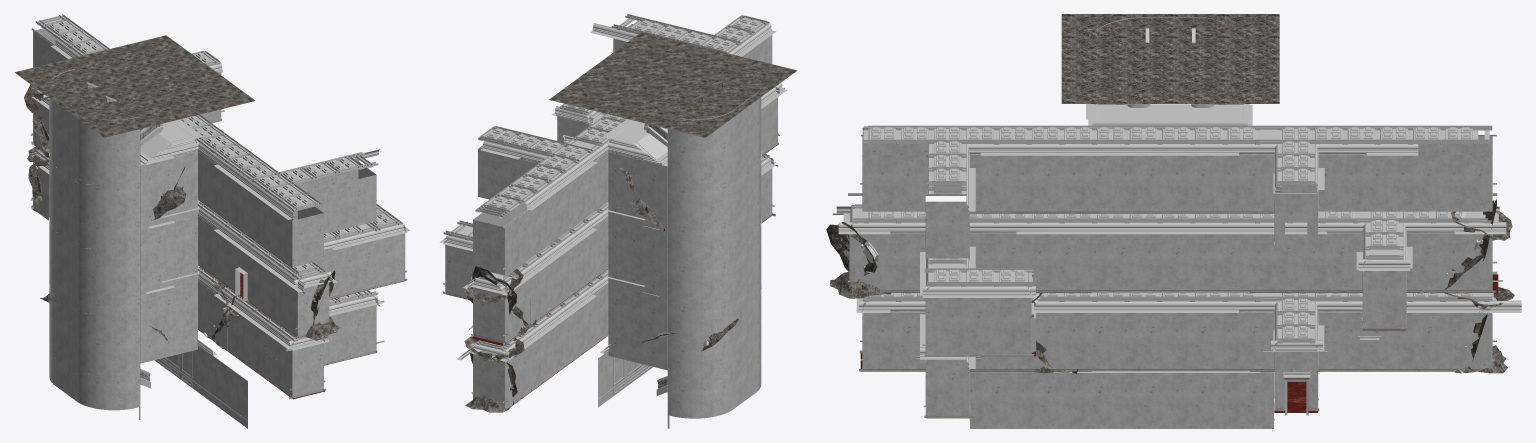
Rendered from backup.fbx.
3 views of the same model, side by side, from view 1: azimuth 30°, elevation 25°; view 2: azimuth 150°, elevation 25°; view 3: azimuth 270°, elevation 25° (orthographic). The views are drawn at different scales.
Visible parts, largest first — view 1: LODGroup_1_MainMesh_1_SubMesh_15, LODGroup_1_MainMesh_1_SubMesh_19, LODGroup_1_MainMesh_1_SubMesh_1, LODGroup_1_MainMesh_1_SubMesh_5, LODGroup_1_MainMesh_1_SubMesh_3, LODGroup_1_MainMesh_1_SubMesh_4, LODGroup_1_MainMesh_1_SubMesh_8, LODGroup_1_MainMesh_1_SubMesh_18; view 2: LODGroup_1_MainMesh_1_SubMesh_15, LODGroup_1_MainMesh_1_SubMesh_19, LODGroup_1_MainMesh_1_SubMesh_1, LODGroup_1_MainMesh_1_SubMesh_5, LODGroup_1_MainMesh_1_SubMesh_3, LODGroup_1_MainMesh_1_SubMesh_4, LODGroup_1_MainMesh_1_SubMesh_8; view 3: LODGroup_1_MainMesh_1_SubMesh_15, LODGroup_1_MainMesh_1_SubMesh_1, LODGroup_1_MainMesh_1_SubMesh_5, LODGroup_1_MainMesh_1_SubMesh_19, LODGroup_1_MainMesh_1_SubMesh_4, LODGroup_1_MainMesh_1_SubMesh_3, LODGroup_1_MainMesh_1_SubMesh_8, LODGroup_1_MainMesh_1_SubMesh_18, LODGroup_1_MainMesh_1_SubMesh_16.
Part boxes in pixels (bbox=[...]): LODGroup_1_MainMesh_1_SubMesh_15: bbox=[33, 28, 405, 428]; LODGroup_1_MainMesh_1_SubMesh_19: bbox=[14, 35, 255, 137]; LODGroup_1_MainMesh_1_SubMesh_1: bbox=[35, 14, 402, 341]; LODGroup_1_MainMesh_1_SubMesh_5: bbox=[30, 38, 410, 355]; LODGroup_1_MainMesh_1_SubMesh_3: bbox=[24, 84, 339, 348]; LODGroup_1_MainMesh_1_SubMesh_4: bbox=[30, 28, 407, 421]; LODGroup_1_MainMesh_1_SubMesh_8: bbox=[37, 119, 373, 313]; LODGroup_1_MainMesh_1_SubMesh_18: bbox=[33, 144, 404, 398]; LODGroup_1_MainMesh_1_SubMesh_15: bbox=[445, 24, 777, 418]; LODGroup_1_MainMesh_1_SubMesh_19: bbox=[549, 32, 797, 137]; LODGroup_1_MainMesh_1_SubMesh_1: bbox=[443, 14, 769, 351]; LODGroup_1_MainMesh_1_SubMesh_5: bbox=[439, 23, 786, 361]; LODGroup_1_MainMesh_1_SubMesh_3: bbox=[463, 128, 738, 412]; LODGroup_1_MainMesh_1_SubMesh_4: bbox=[443, 88, 784, 428]; LODGroup_1_MainMesh_1_SubMesh_8: bbox=[454, 119, 761, 351]; LODGroup_1_MainMesh_1_SubMesh_15: bbox=[849, 17, 1492, 428]; LODGroup_1_MainMesh_1_SubMesh_1: bbox=[852, 125, 1492, 343]; LODGroup_1_MainMesh_1_SubMesh_5: bbox=[836, 104, 1521, 372]; LODGroup_1_MainMesh_1_SubMesh_19: bbox=[1061, 14, 1279, 103]; LODGroup_1_MainMesh_1_SubMesh_4: bbox=[832, 134, 1502, 420]; LODGroup_1_MainMesh_1_SubMesh_3: bbox=[826, 199, 1514, 373]; LODGroup_1_MainMesh_1_SubMesh_8: bbox=[855, 104, 1493, 298]; LODGroup_1_MainMesh_1_SubMesh_18: bbox=[860, 274, 1498, 418]; LODGroup_1_MainMesh_1_SubMesh_16: bbox=[1031, 303, 1381, 415].
Bounding box in the file's own units: 2382 × 2823 × 4729.
